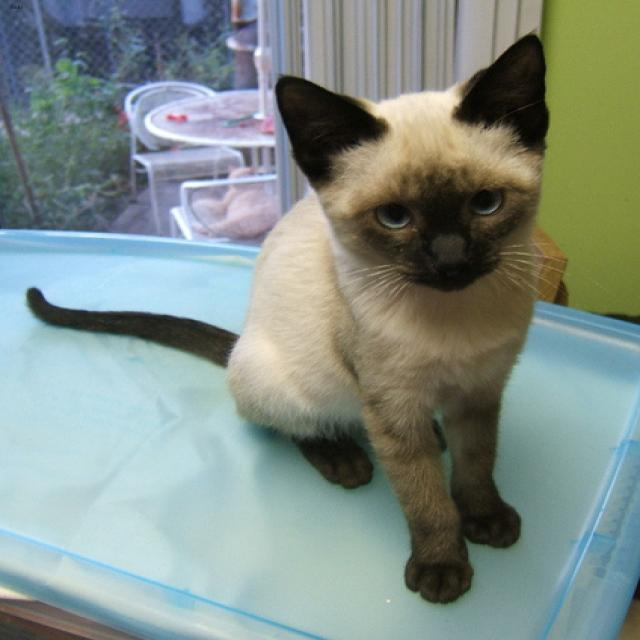Siamese: (269, 23, 559, 299)
